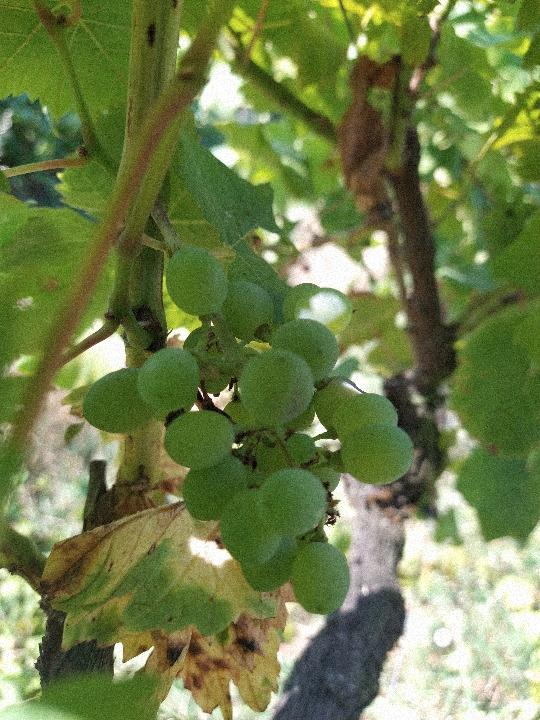grape: (82, 245, 418, 617)
